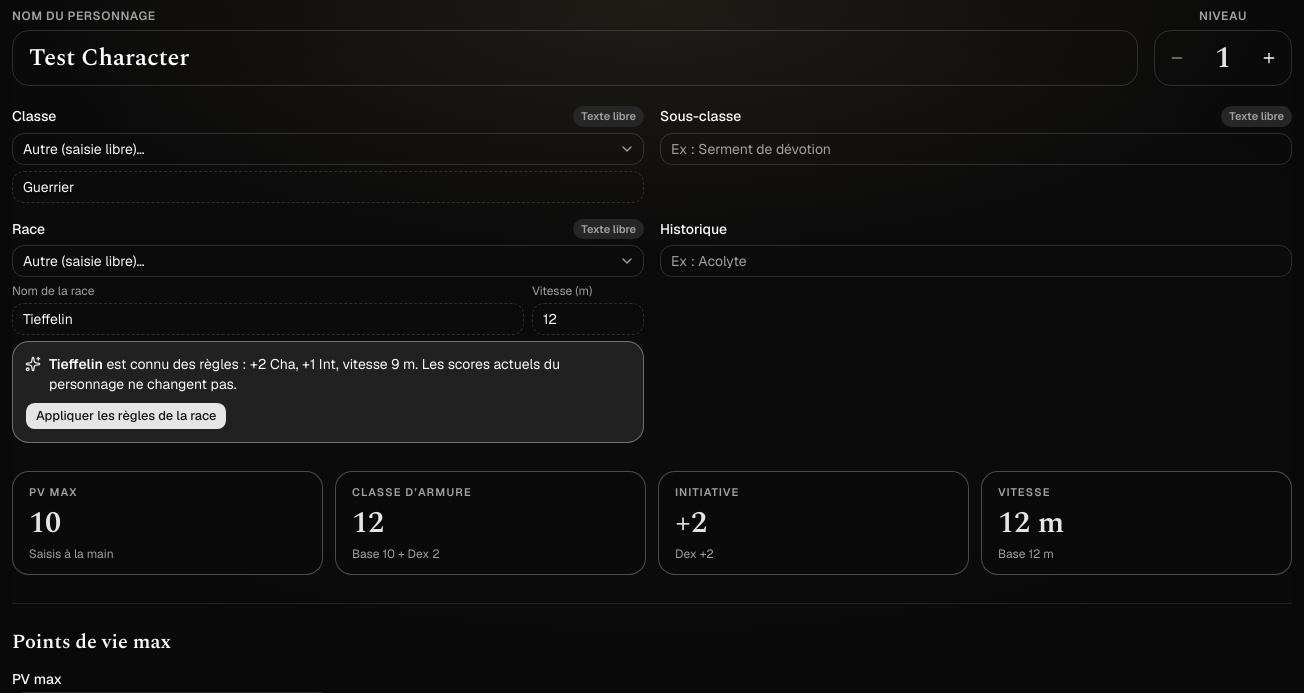
Test: GeneralTab › offers the rules of a known race typed as free text, keeping the actual scores
Check: the number field labelled "Vitesse (m)" holds "12", box x1=532 y1=303 x2=644 y2=335
Check: the text "est connu des règles" shows "Tieffelin est connu des règles : +2 Cha, +1 Int, vitesse 9 m.", box x1=49 y1=354 x2=631 y2=394
Click the button "Appliquer les règles de la race".
click(126, 416)  # box x1=25 y1=402 x2=227 y2=430
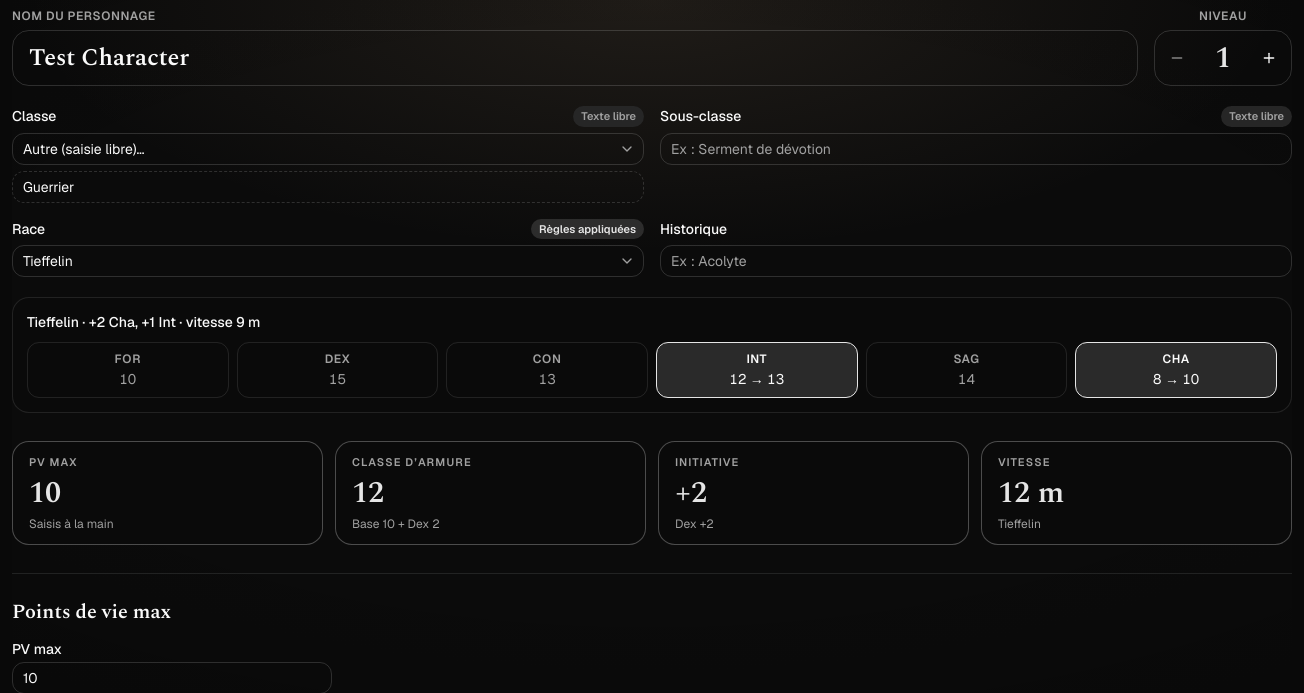
Check: the text "est connu des règles" is gone
Check: the text "Tieffelin · +2 Cha, +1 Int · vitesse 9 m" is shown, box x1=27 y1=312 x2=260 y2=332
